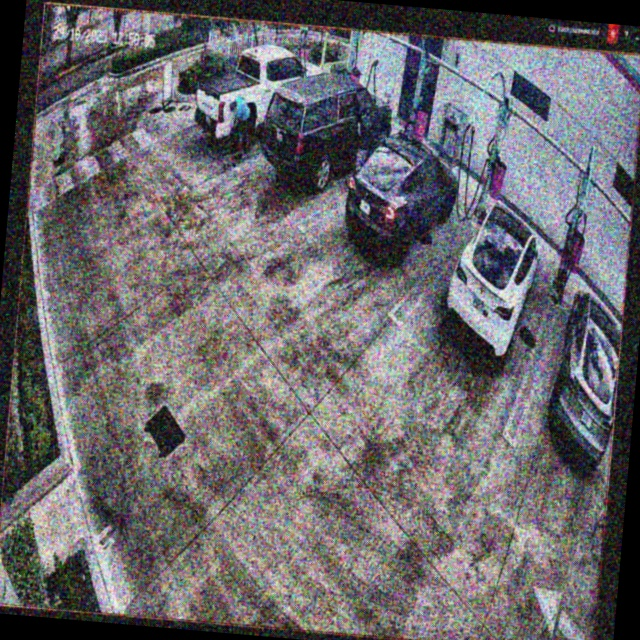Car: (337, 131, 461, 270), (259, 72, 395, 198), (445, 197, 545, 363)
